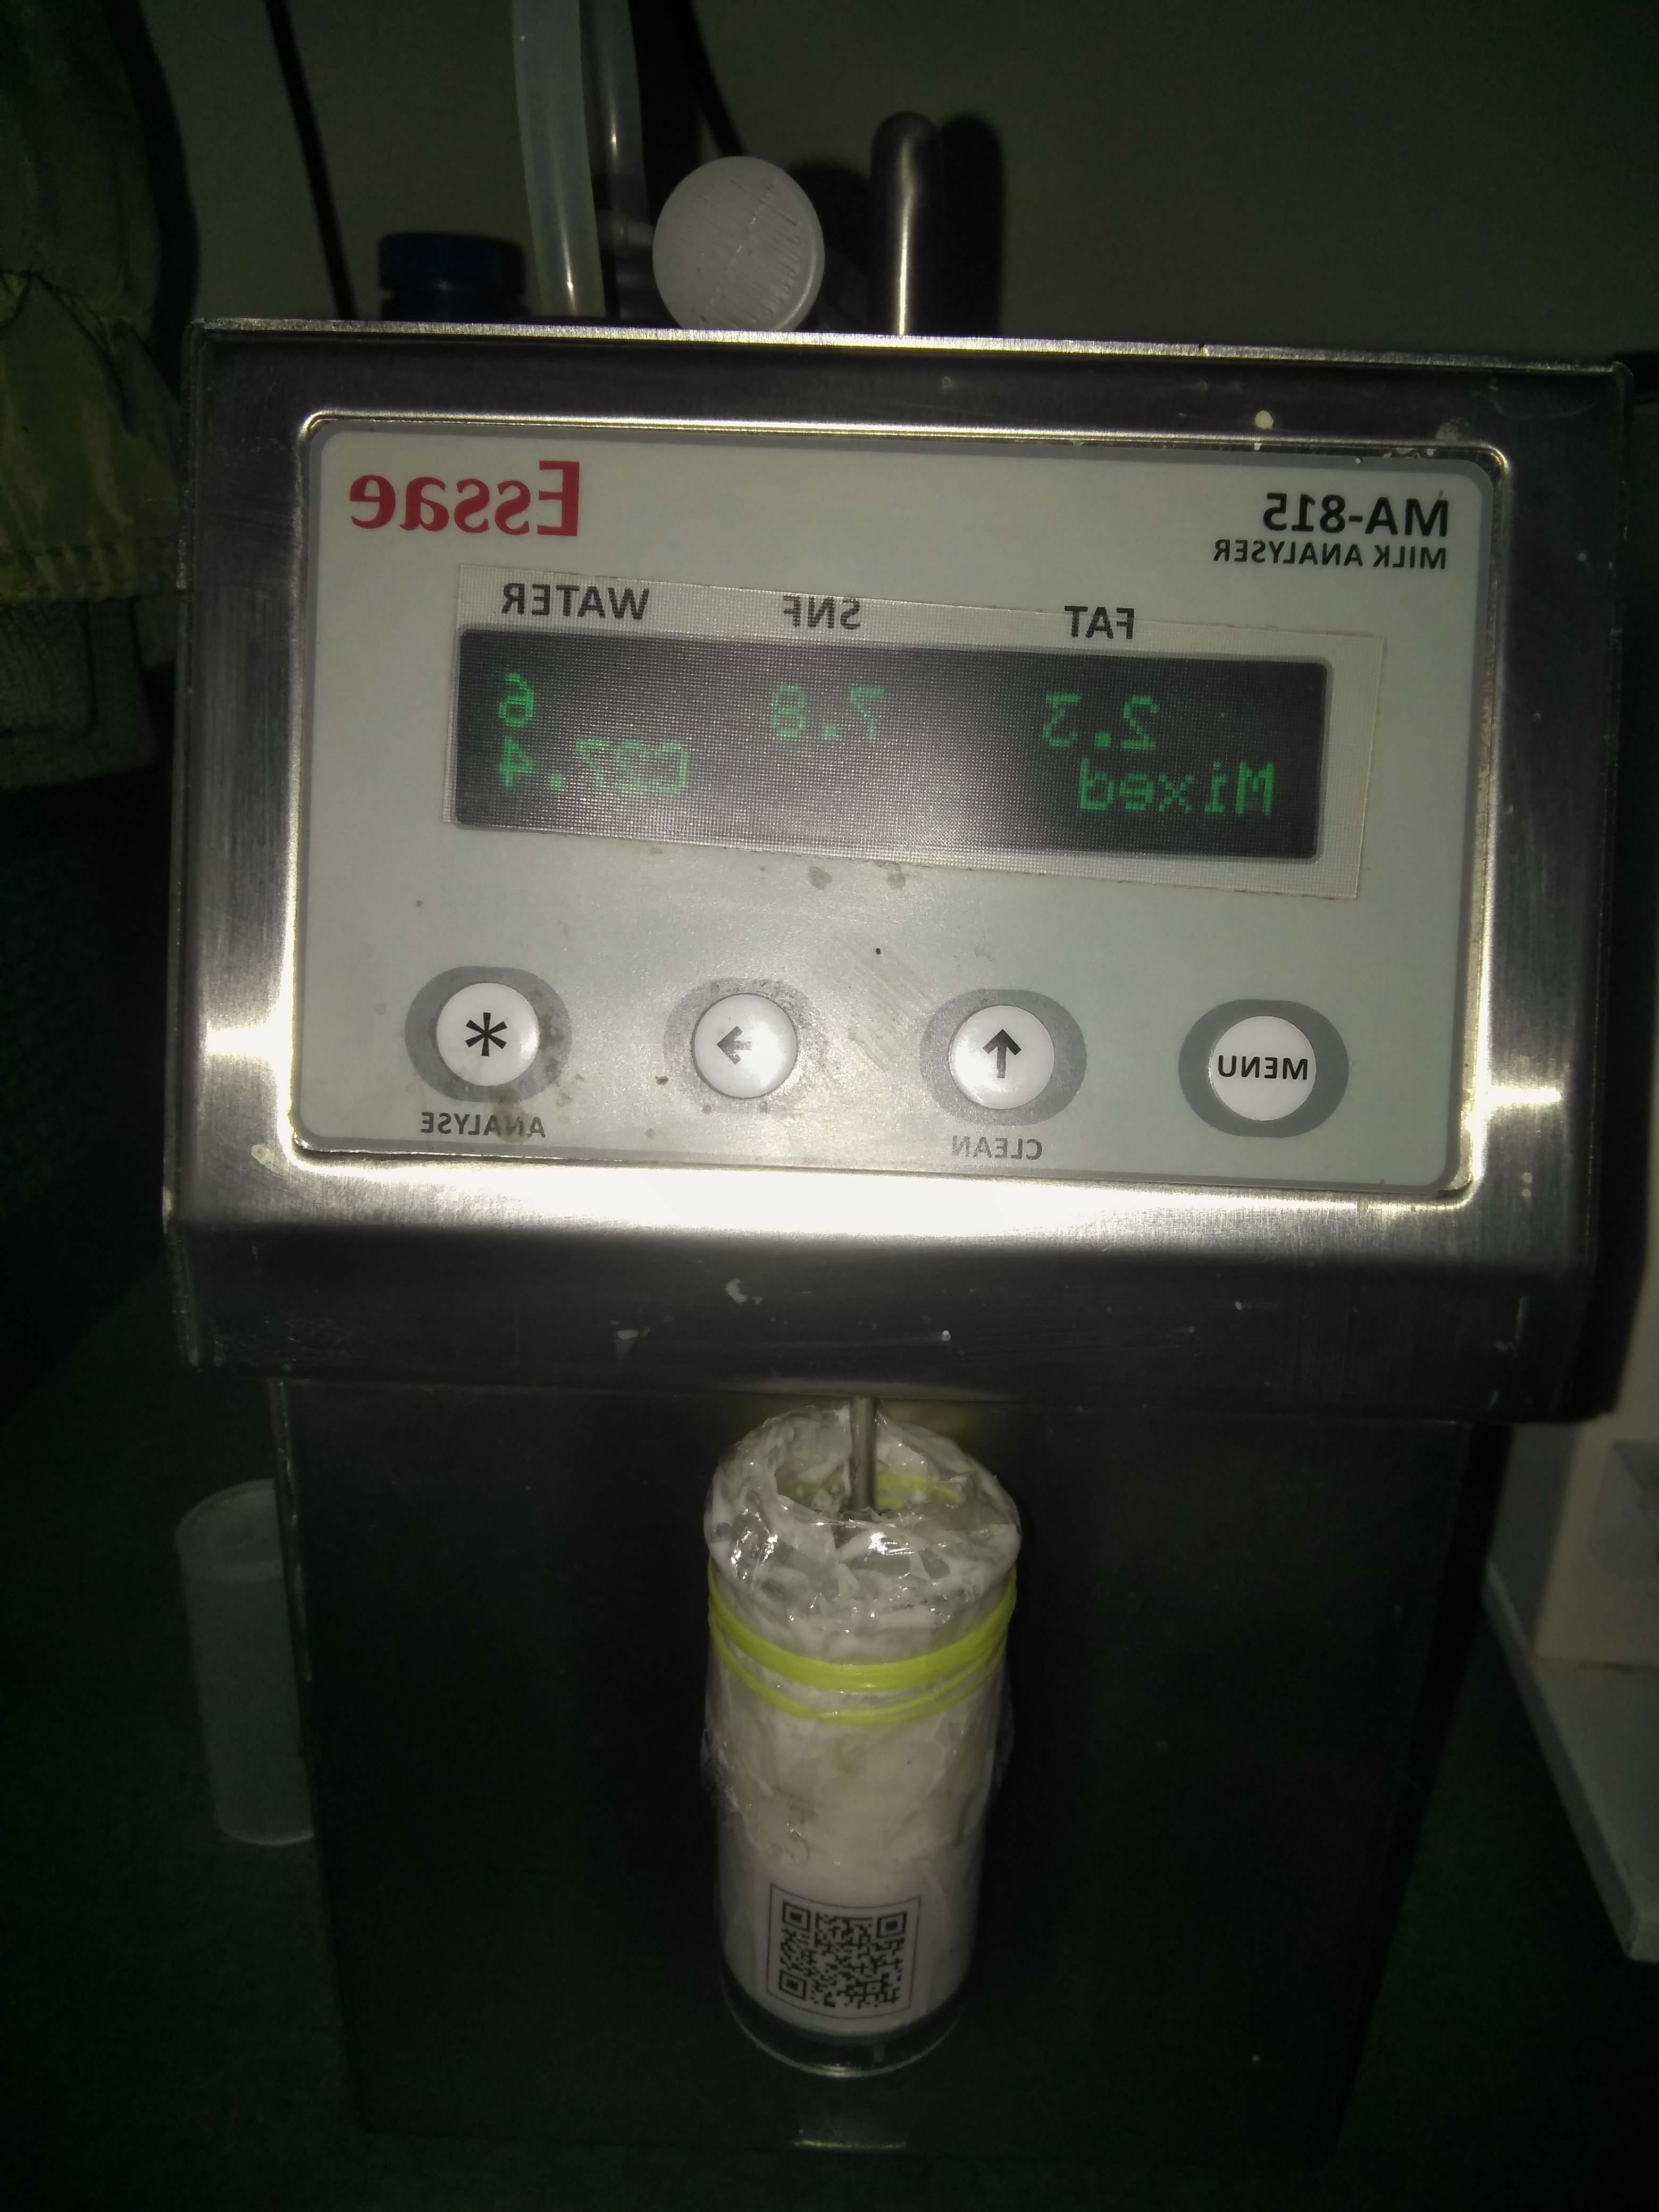lcd: (462, 575, 1356, 953)
qr: (760, 1883, 941, 2041)
